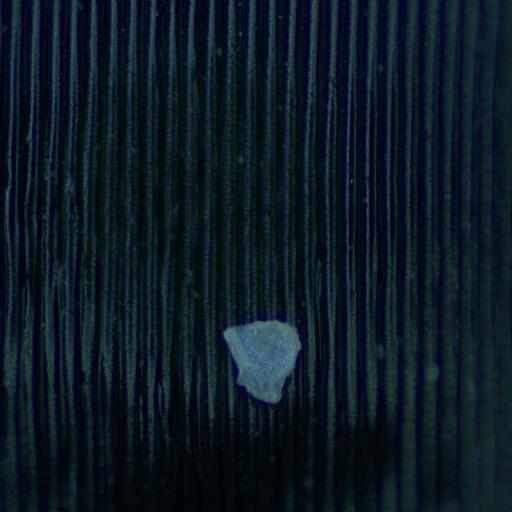mineral: (223, 319, 301, 404)
